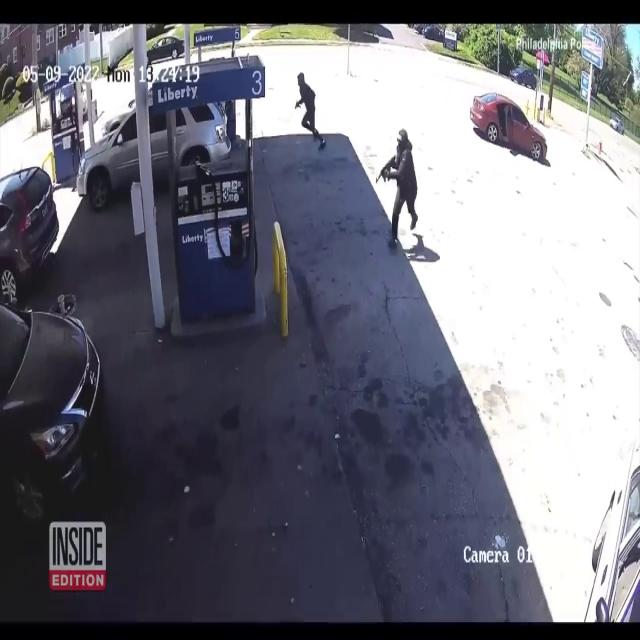penembakan: (372, 126, 422, 260), (292, 68, 331, 156)
